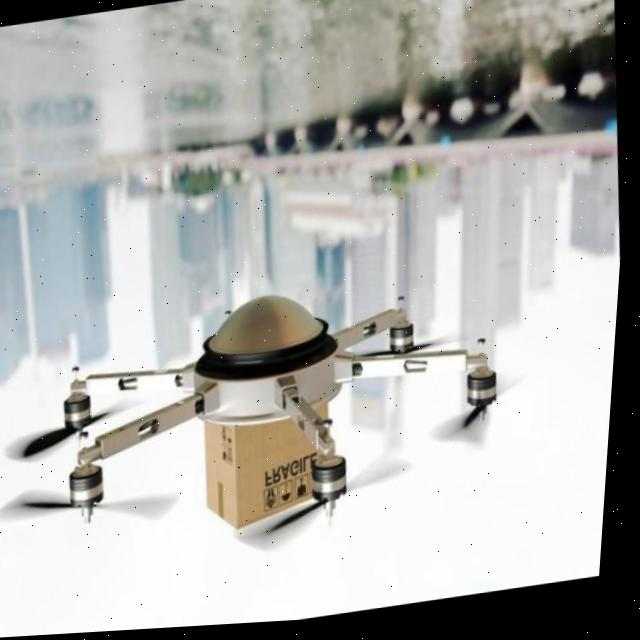drones: (0, 181, 607, 640)
